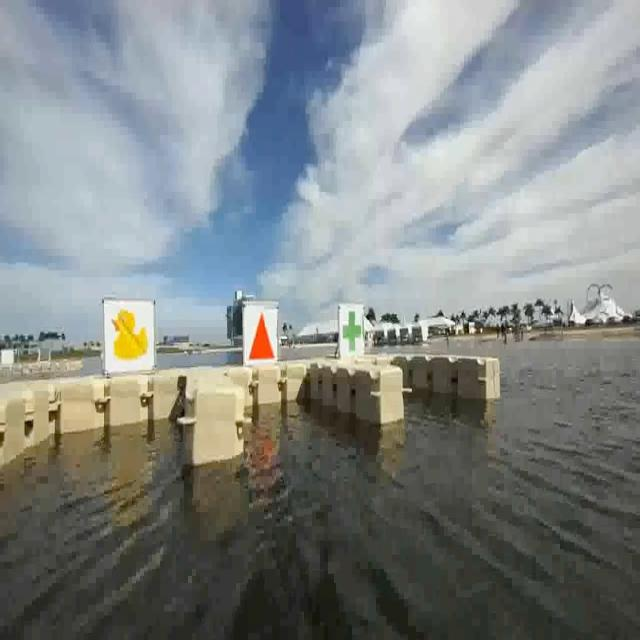blue-cross: (338, 303, 365, 362)
red-dot: (246, 302, 276, 365)
yellow-duck: (102, 299, 157, 375)
